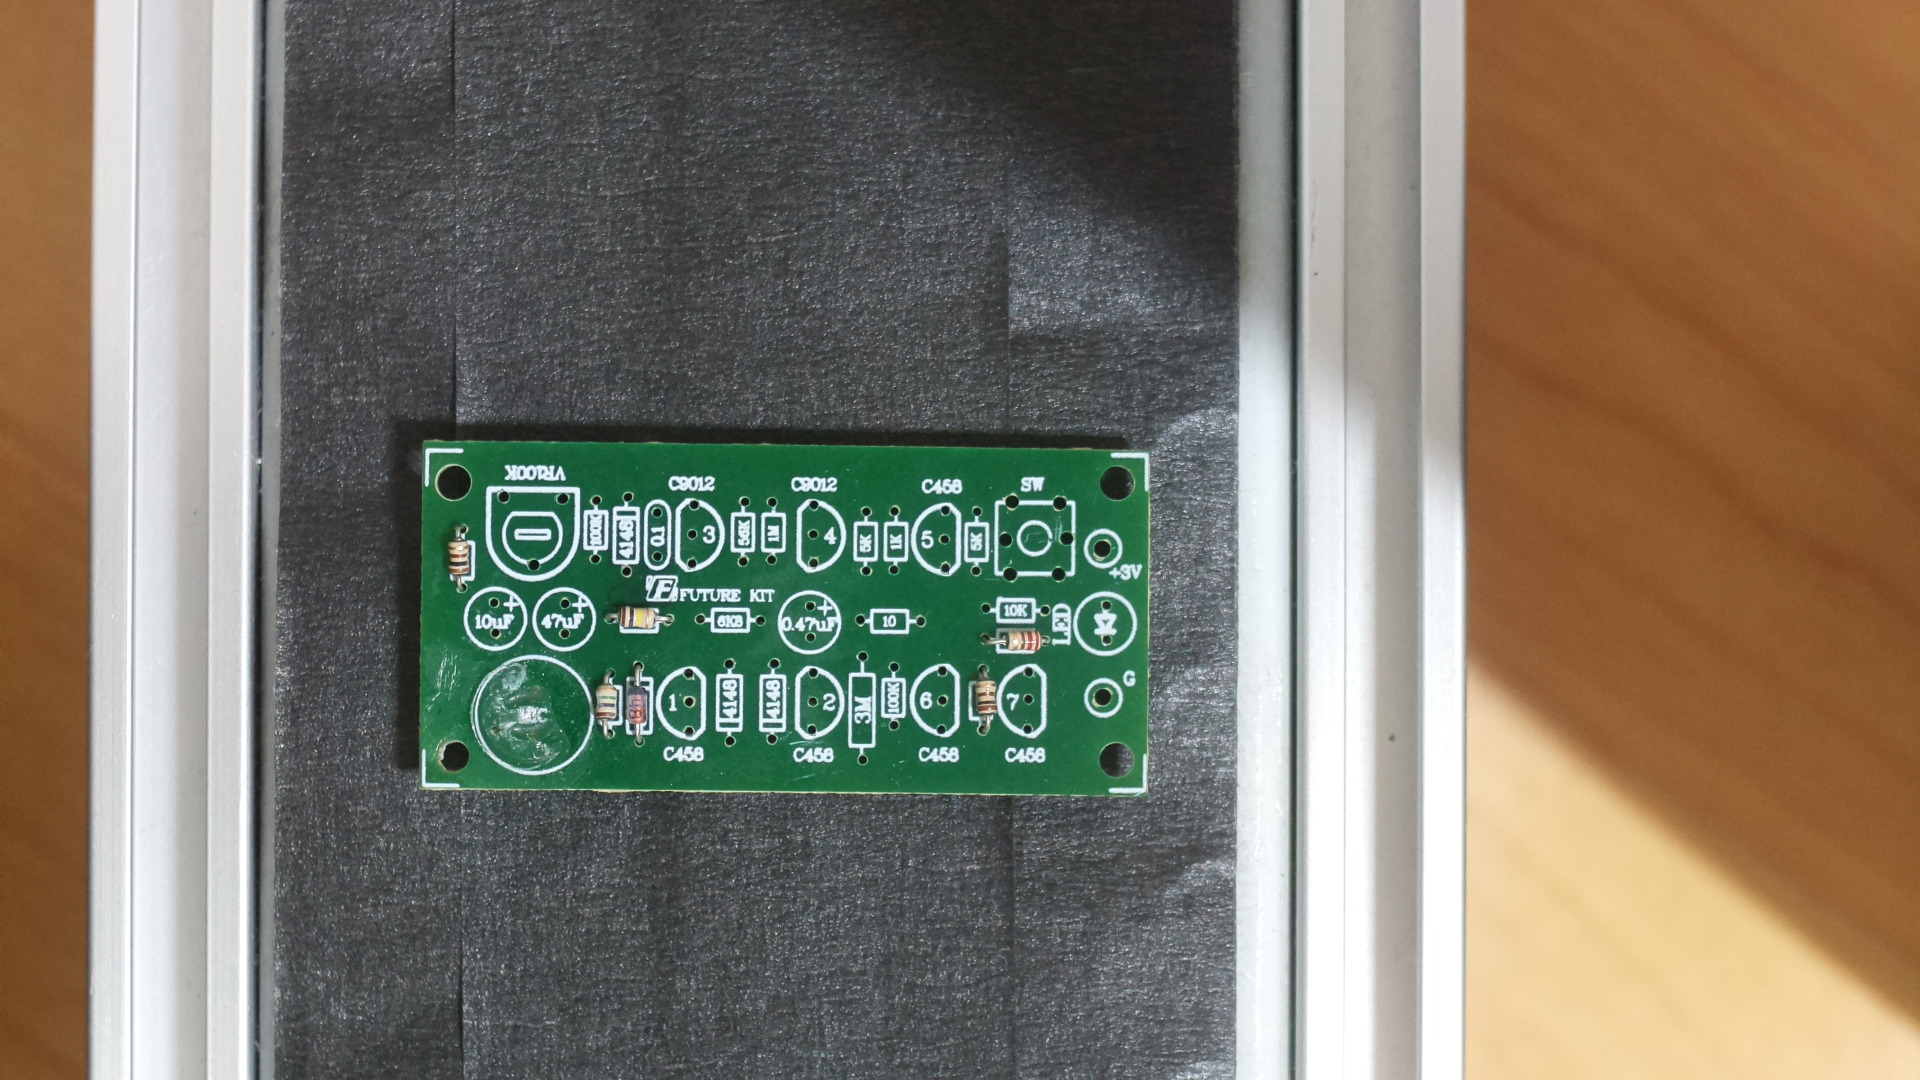A_Missing_part: (414, 433, 1166, 806)
